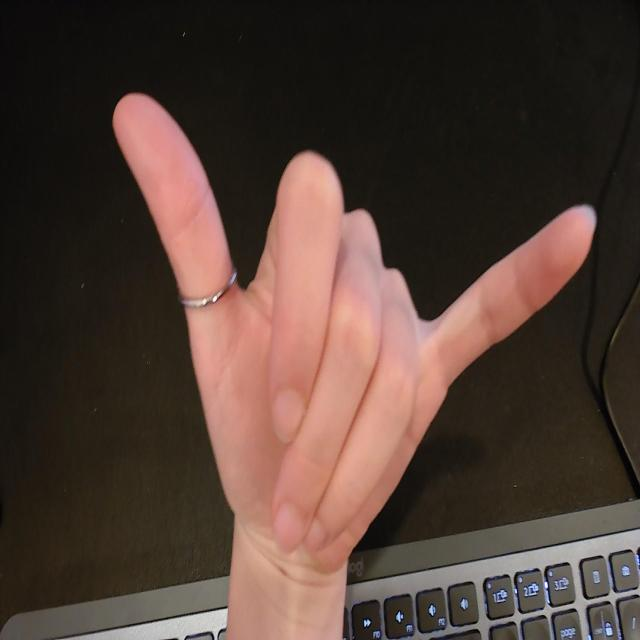Y: (110, 88, 602, 580)
